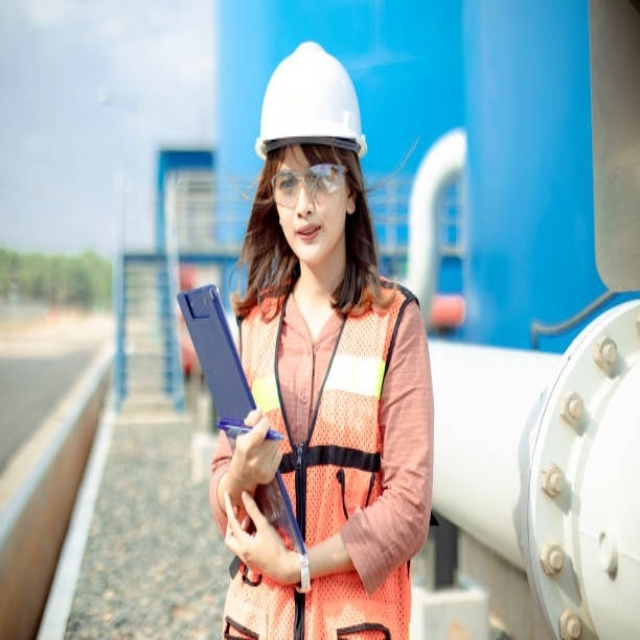Gafas: (270, 164, 350, 209)
Sin_guantes: (222, 486, 296, 585), (225, 408, 285, 492)
Sin_mascara: (289, 216, 327, 257)
